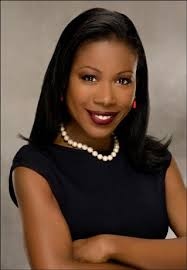black_female: (39, 1, 160, 149)
